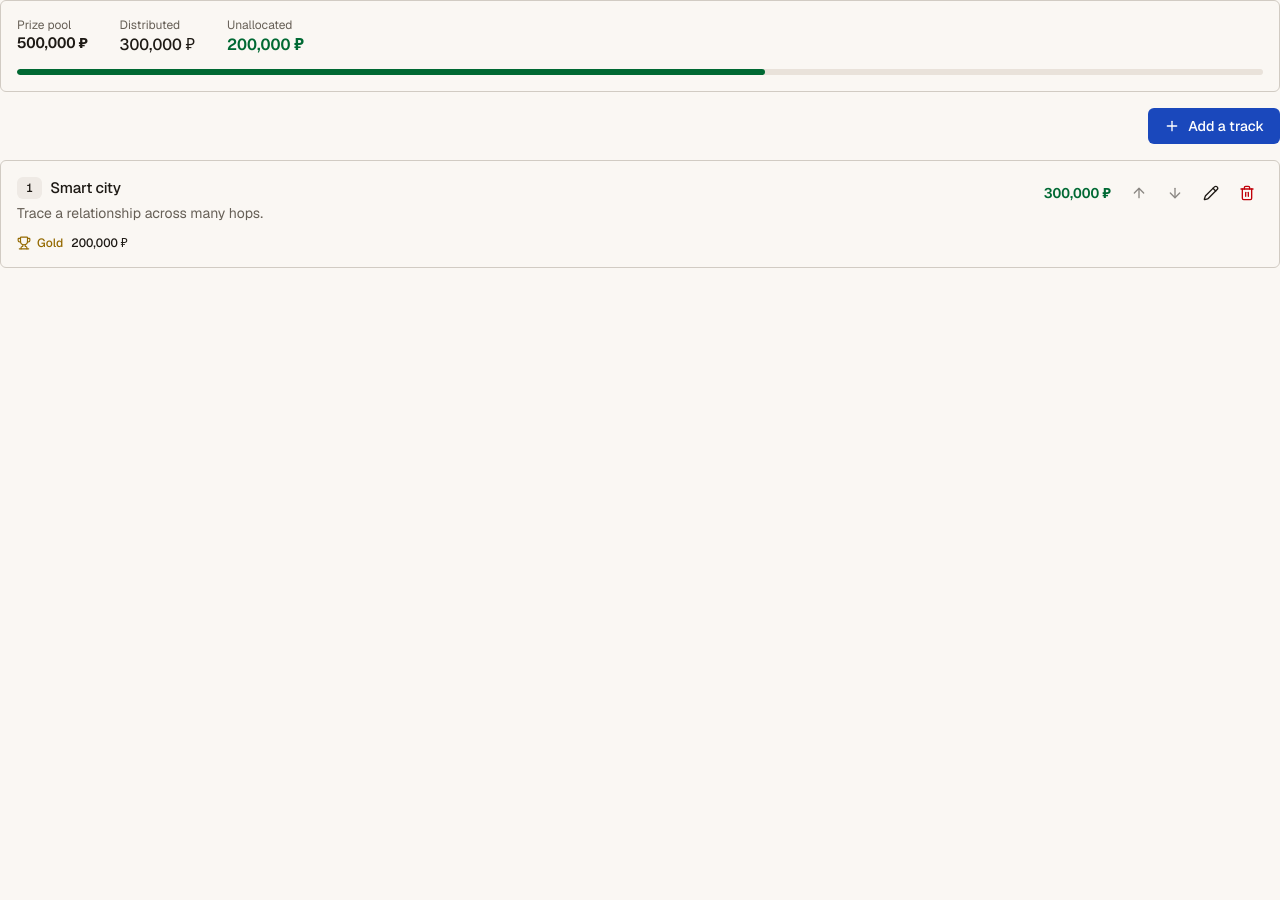
Test: an over-budget split is refused before it is sent › names the overshoot and blocks the submit once the amounts exceed what is left
Click the button "Add a track".
click(1214, 126)  # box [1148,108,1279,144]
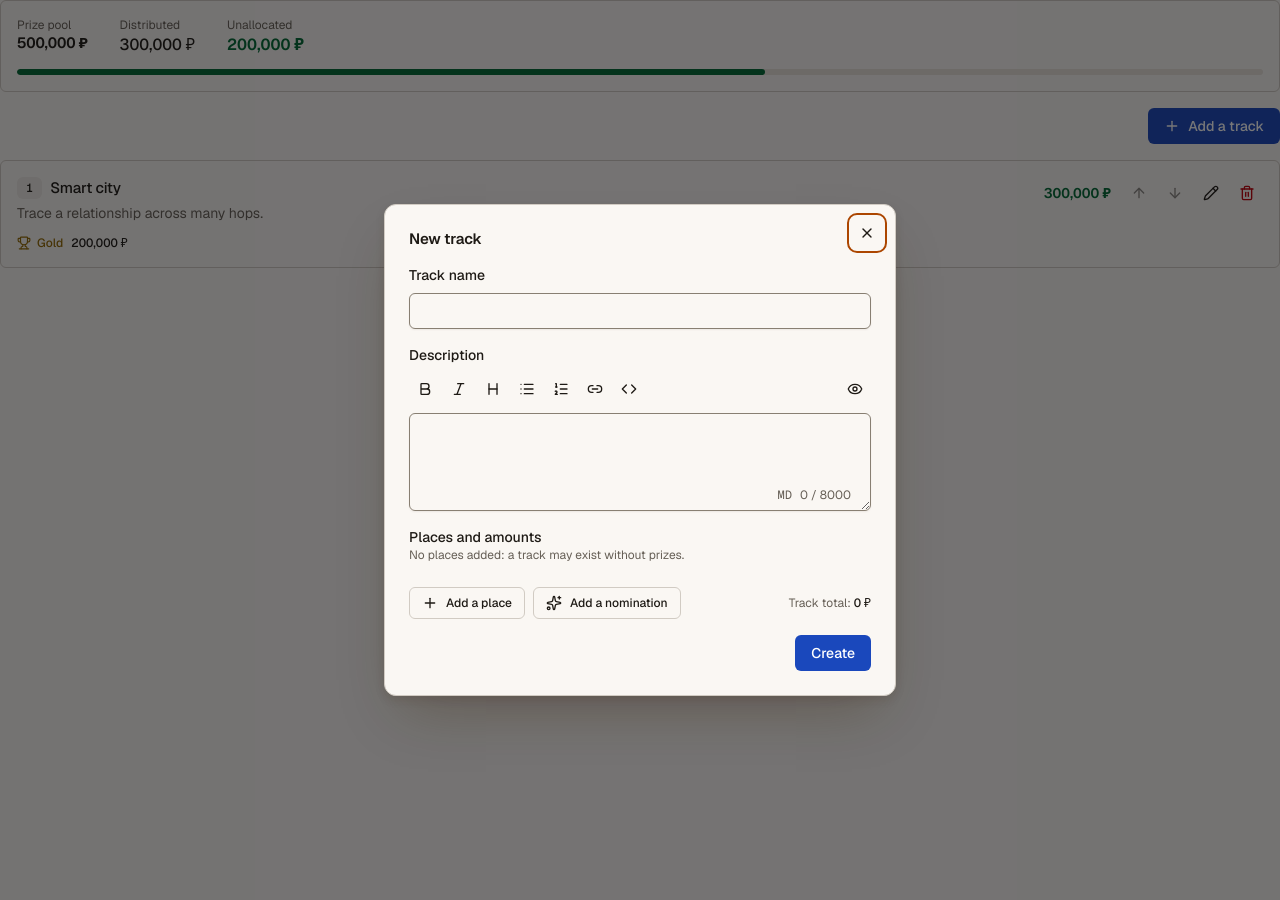
Type "Green energy" into the field labelled "Track name".
click(640, 311); type("Green energy")  # box [409,293,871,329]
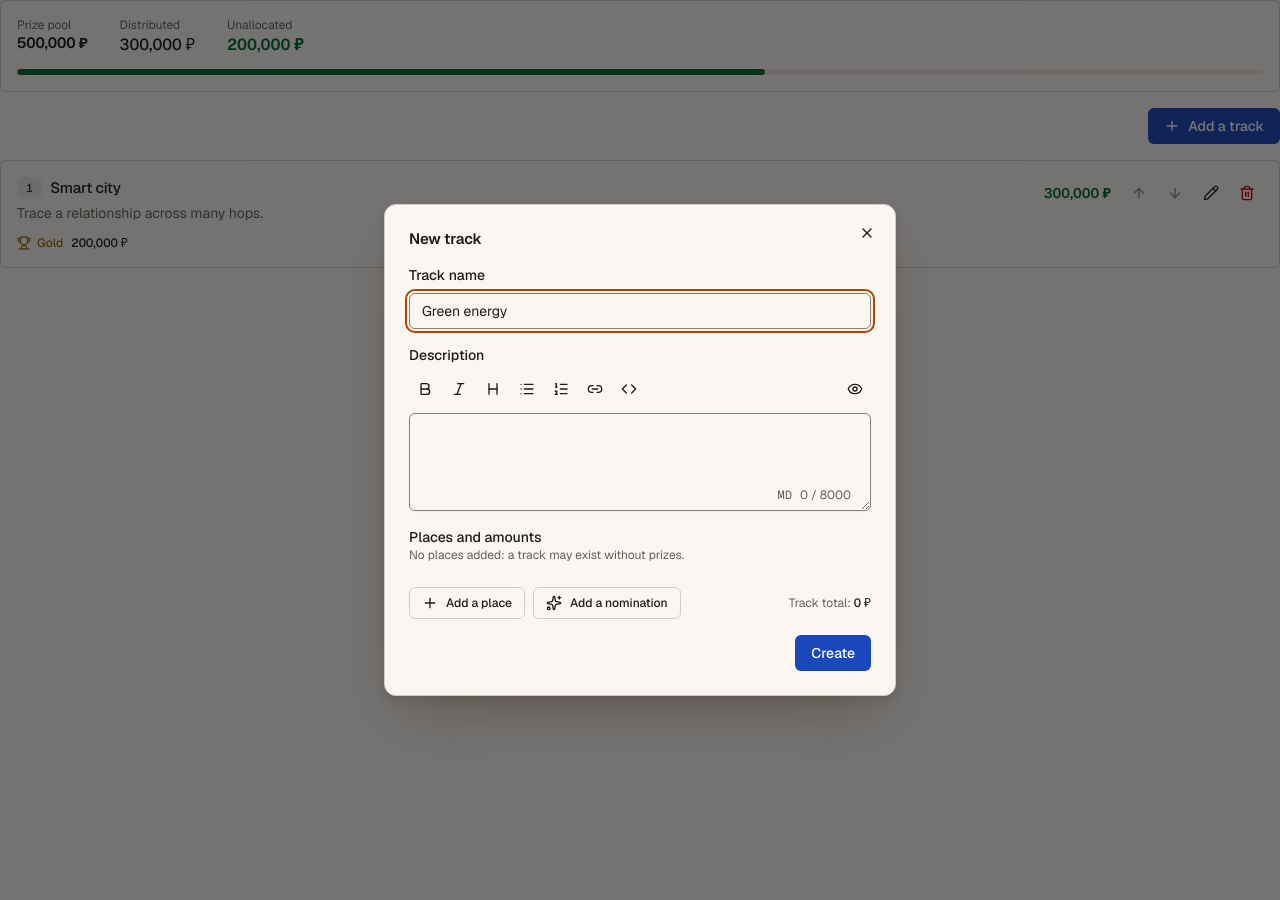
Click the button "Add a place".
click(467, 603)  # box [409,587,525,619]
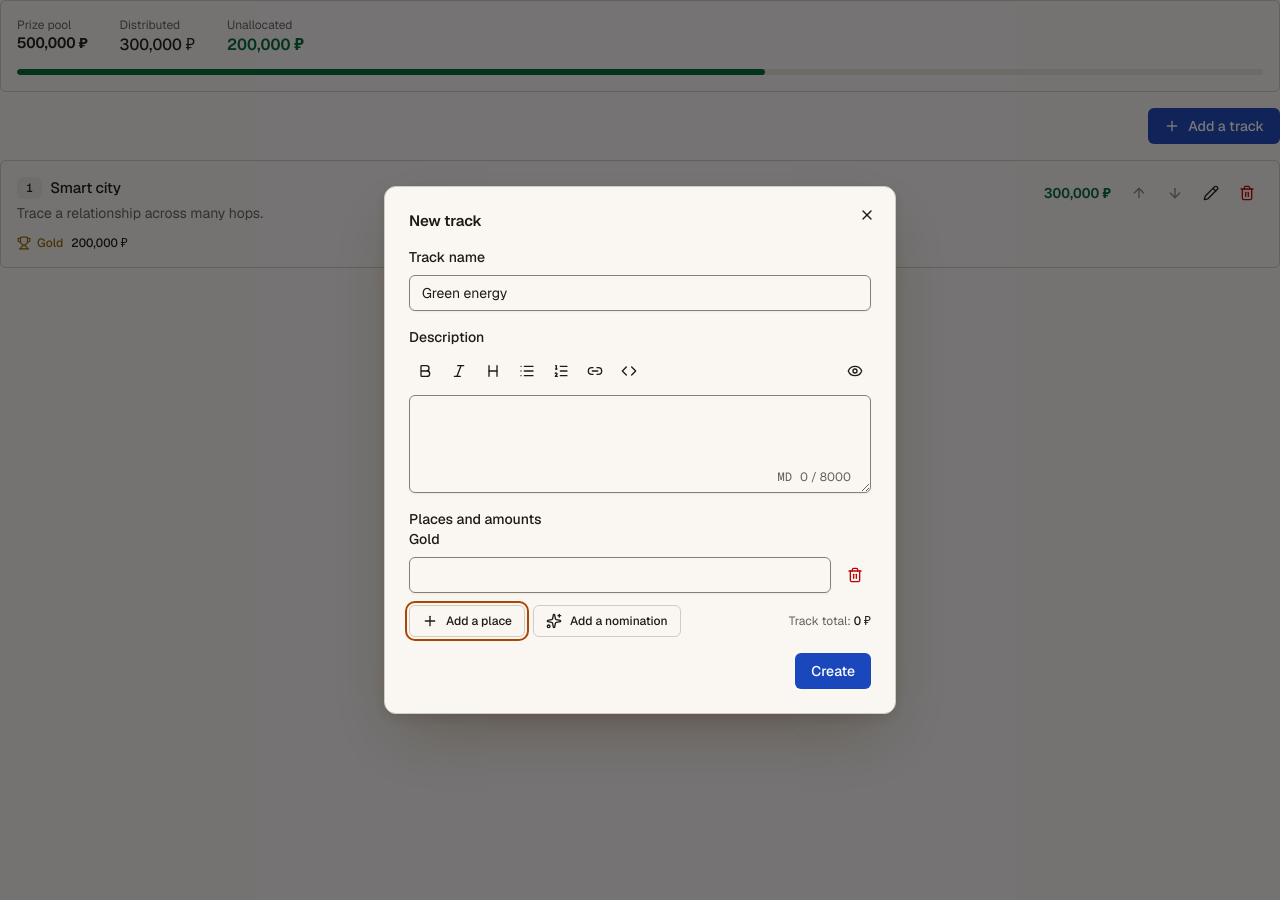
Type "300000" into the field labelled "Gold".
click(620, 575); type("300000")  # box [409,557,831,593]
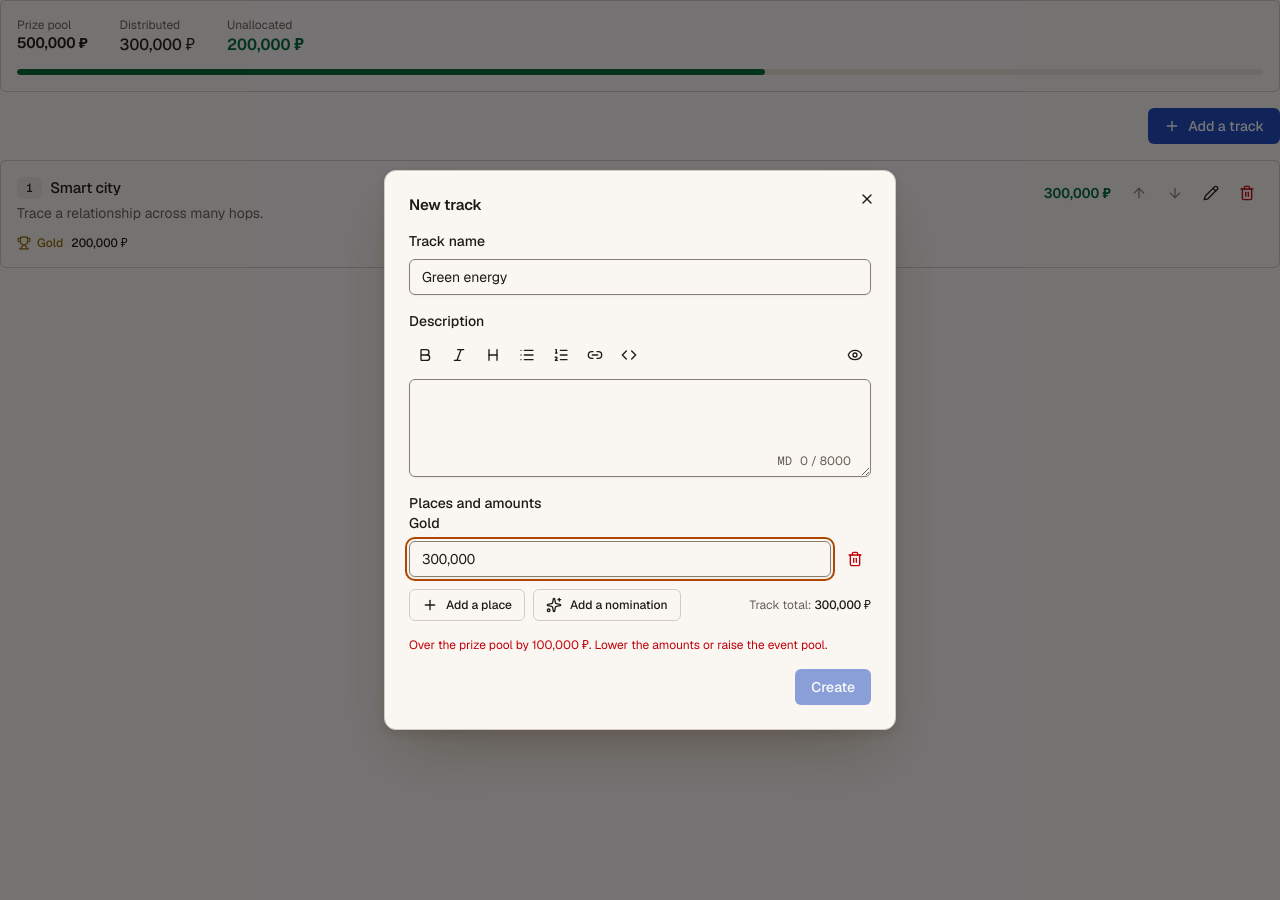
expect the message shows "100,000": met, box [409,637,828,653]
expect the button "Create" is disabled: met, box [795,669,871,705]
